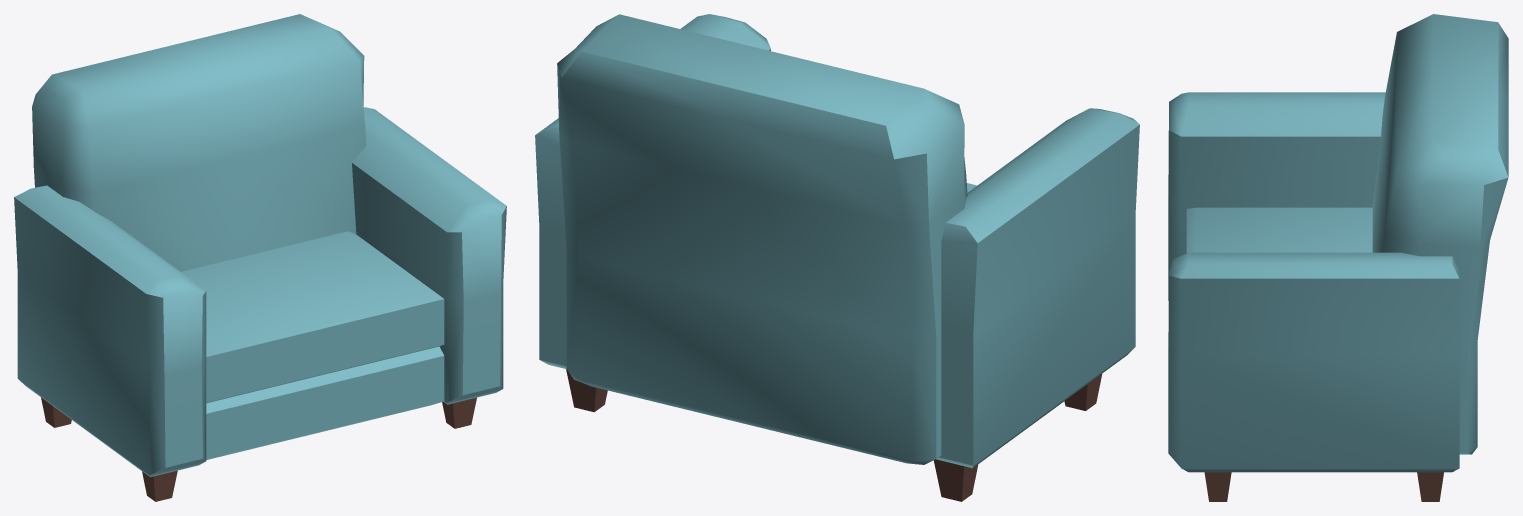
The model's file is Couch.FBX.
3 renders of one model, left to right at view 1: azimuth 30°, elevation 25°; view 2: azimuth 150°, elevation 25°; view 3: azimuth 270°, elevation 25°, orthographic. The views are drawn at different scales.
Visible parts, largest first — view 1: Couch; view 2: Couch; view 3: Couch.
Boxes of the visible parts, x1,y1,x2,y2 form: Couch: [14, 14, 506, 501]; Couch: [535, 14, 1139, 501]; Couch: [1168, 14, 1508, 501].
Size of the model in its own units: 116 by 100 by 90.02.
